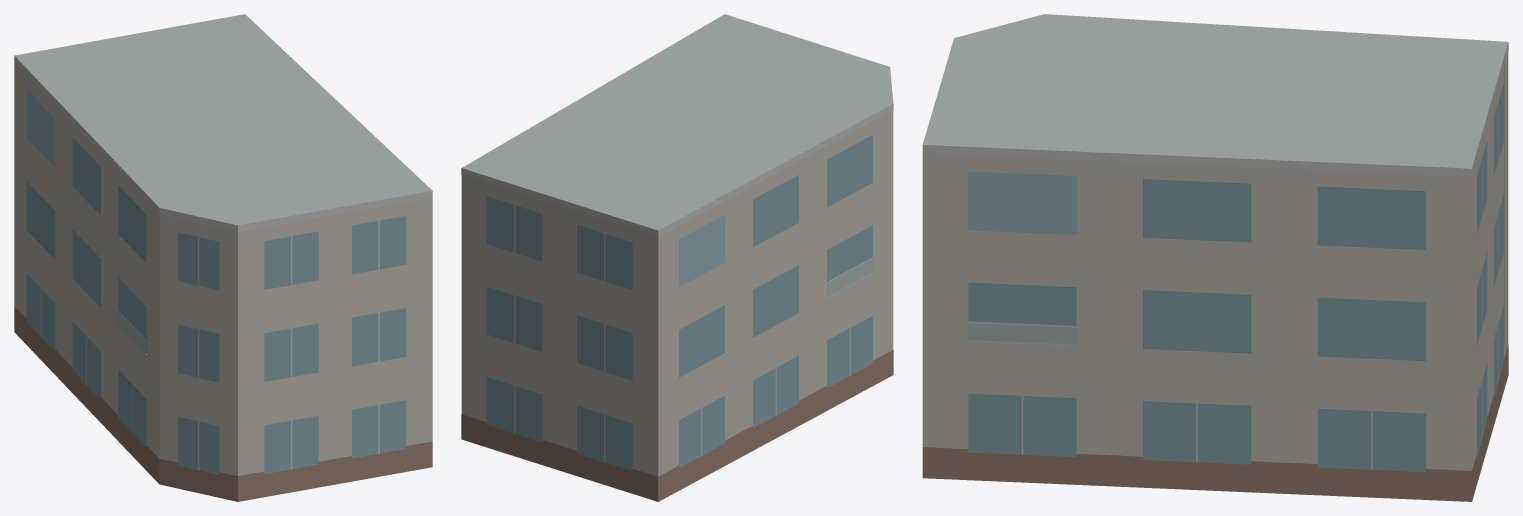
Rendered from survey-upis-32996140.glb.
The picture shows the model from 3 angles, left to right: view 1: azimuth 30°, elevation 25°; view 2: azimuth 150°, elevation 25°; view 3: azimuth 270°, elevation 25°; orthographic projection. The views are drawn at different scales.
Visible parts, largest first — view 1: survey-upis-32996140.tmp; view 2: survey-upis-32996140.tmp; view 3: survey-upis-32996140.tmp.
Boxes of the visible parts, box(x1,y1,x2,y2) form: survey-upis-32996140.tmp: box(14, 14, 432, 501); survey-upis-32996140.tmp: box(461, 14, 893, 501); survey-upis-32996140.tmp: box(922, 14, 1508, 501).
Size of the model in its own units: 10.06 by 10.1 by 16.1.
